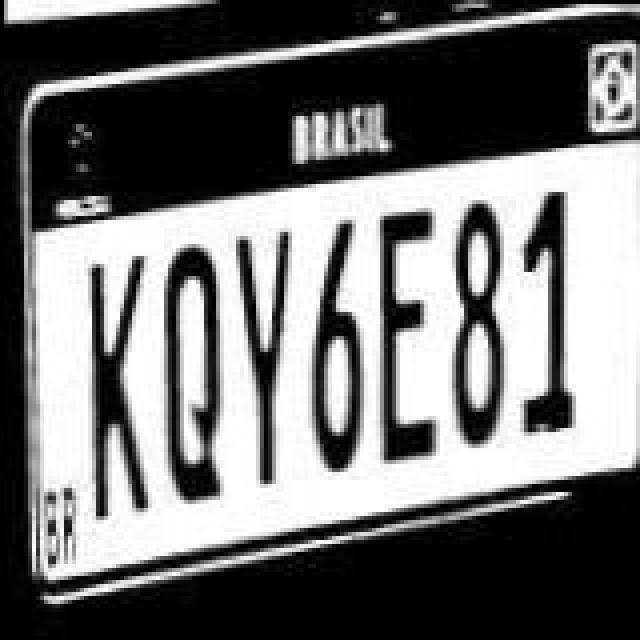1: (512, 182, 592, 434)
6: (306, 214, 374, 474)
8: (446, 192, 514, 452)
E: (366, 202, 442, 474)
K: (76, 254, 160, 522)
Q: (152, 244, 240, 504)
Y: (230, 228, 306, 492)
